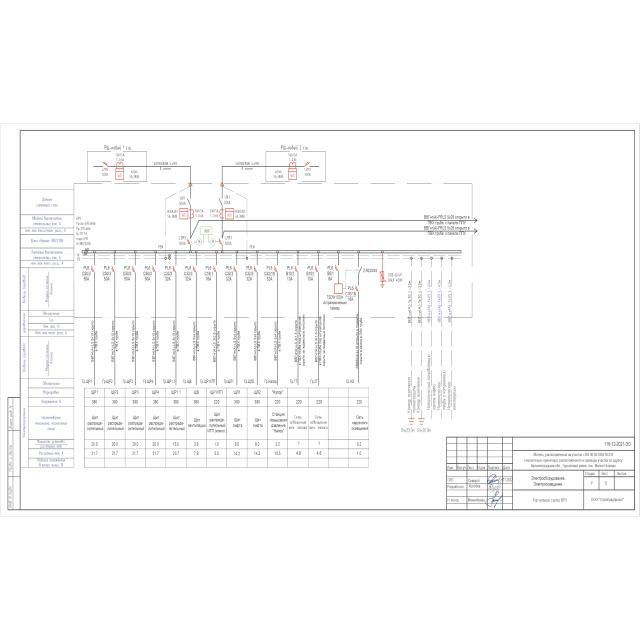-: (322, 294, 347, 311), (345, 285, 357, 303), (264, 265, 276, 282), (325, 264, 335, 282), (122, 265, 132, 283), (142, 265, 152, 283), (182, 265, 192, 283), (224, 265, 234, 283), (285, 265, 295, 283), (102, 265, 112, 283), (204, 265, 214, 283), (244, 265, 254, 283), (388, 272, 404, 283), (306, 265, 316, 282), (82, 265, 92, 282), (163, 265, 173, 282), (234, 208, 247, 220), (167, 208, 179, 219), (177, 234, 187, 247), (273, 169, 284, 180), (224, 234, 233, 246), (224, 193, 232, 206), (194, 208, 204, 218), (178, 196, 186, 206), (210, 208, 218, 218), (76, 215, 82, 221)
AVR: (199, 225, 212, 236)
FV: (379, 270, 387, 283)
M: (210, 238, 216, 246), (196, 238, 202, 246)
QF: (212, 264, 218, 275), (90, 263, 96, 274), (294, 264, 300, 274), (172, 264, 178, 274), (233, 264, 238, 275), (274, 264, 279, 275), (131, 264, 136, 275), (152, 264, 157, 274), (193, 264, 198, 274), (111, 264, 116, 274), (315, 264, 320, 274), (335, 263, 340, 273), (355, 284, 360, 294), (254, 264, 258, 275)
R: (334, 282, 343, 294)
TT: (219, 208, 225, 220), (188, 208, 194, 219)
WH: (225, 208, 234, 220), (180, 208, 188, 220)
